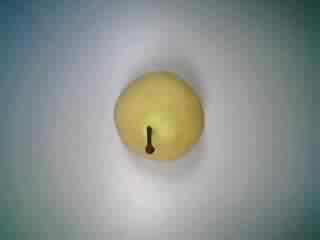pear: (98, 66, 214, 169)
